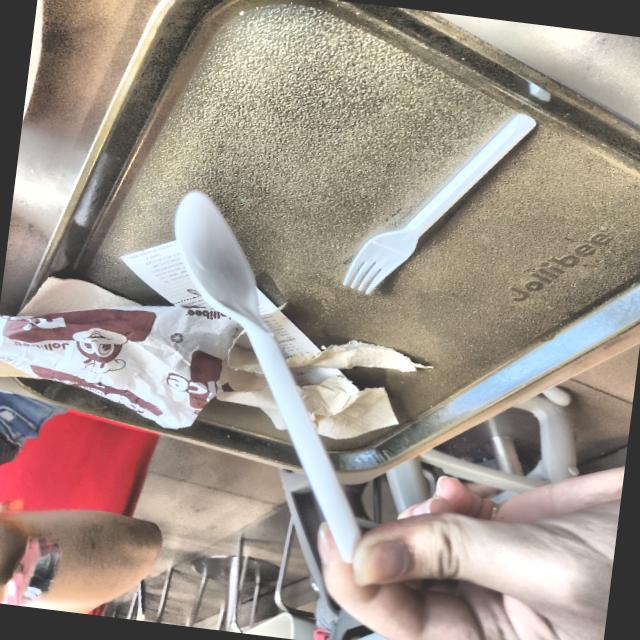plastic utensil: (174, 191, 360, 561), (343, 114, 536, 293)
